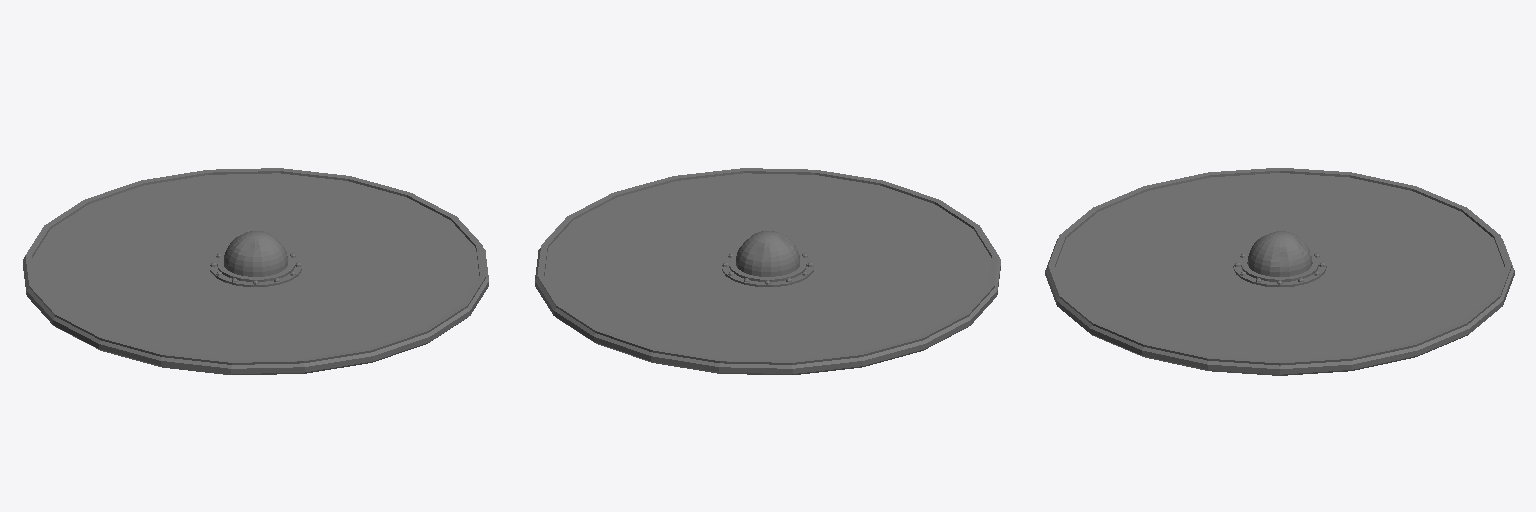
File: Shield.obj
3 renders of one model, left to right at view 1: azimuth 30°, elevation 25°; view 2: azimuth 150°, elevation 25°; view 3: azimuth 270°, elevation 25°, orthographic.
Parts seen in each view (by area): view 1: Shield_Mesh_Template Templates; view 2: Shield_Mesh_Template Templates; view 3: Shield_Mesh_Template Templates.
Boxes of the visible parts, box(x1,y1,x2,y2) form: Shield_Mesh_Template Templates: box(23, 168, 488, 374); Shield_Mesh_Template Templates: box(535, 168, 1000, 374); Shield_Mesh_Template Templates: box(1045, 168, 1514, 375).
Bounding box in the file's own units: 75.25 × 7.85 × 75.25.